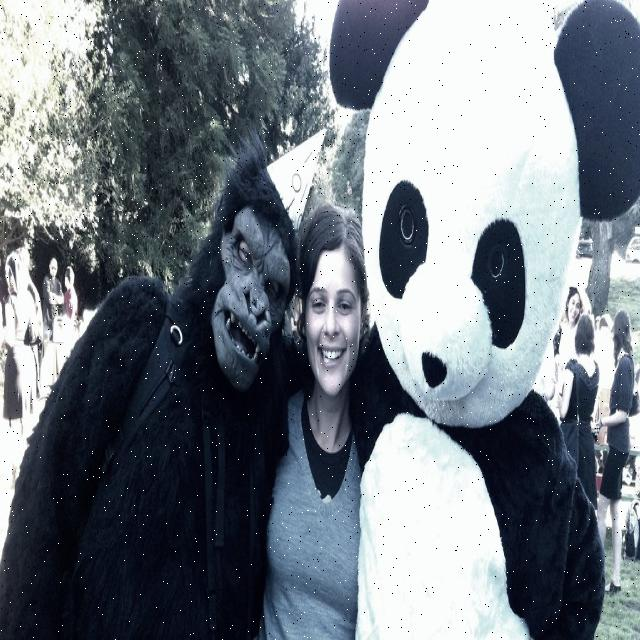panda: (326, 0, 640, 639)
